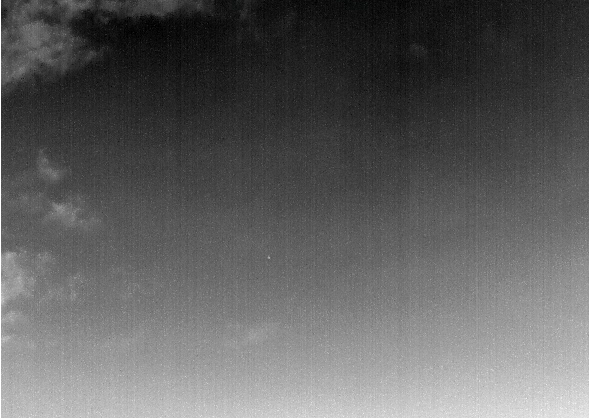dim target: (266, 255, 272, 260)
